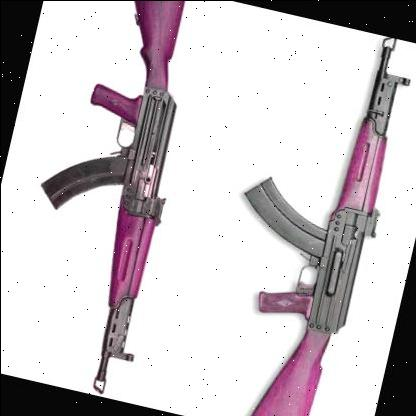rifle: (0, 0, 245, 405), (205, 15, 416, 416)
